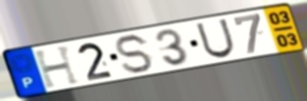2: (77, 41, 115, 82)
3: (155, 27, 188, 68)
7: (232, 12, 263, 55)
H: (32, 43, 83, 90)
S: (115, 33, 156, 76)
U: (194, 18, 237, 60)
